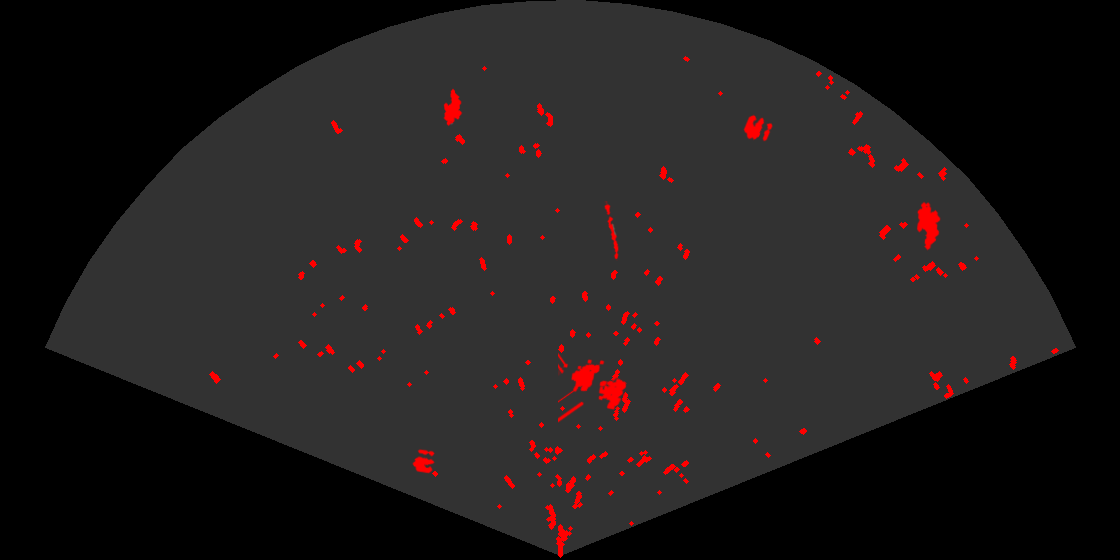AUV: (915, 200, 942, 252), (442, 87, 464, 128)
ball: (742, 113, 774, 143), (411, 447, 436, 475)
cage: (558, 351, 628, 424)
chain: (603, 201, 620, 261)
